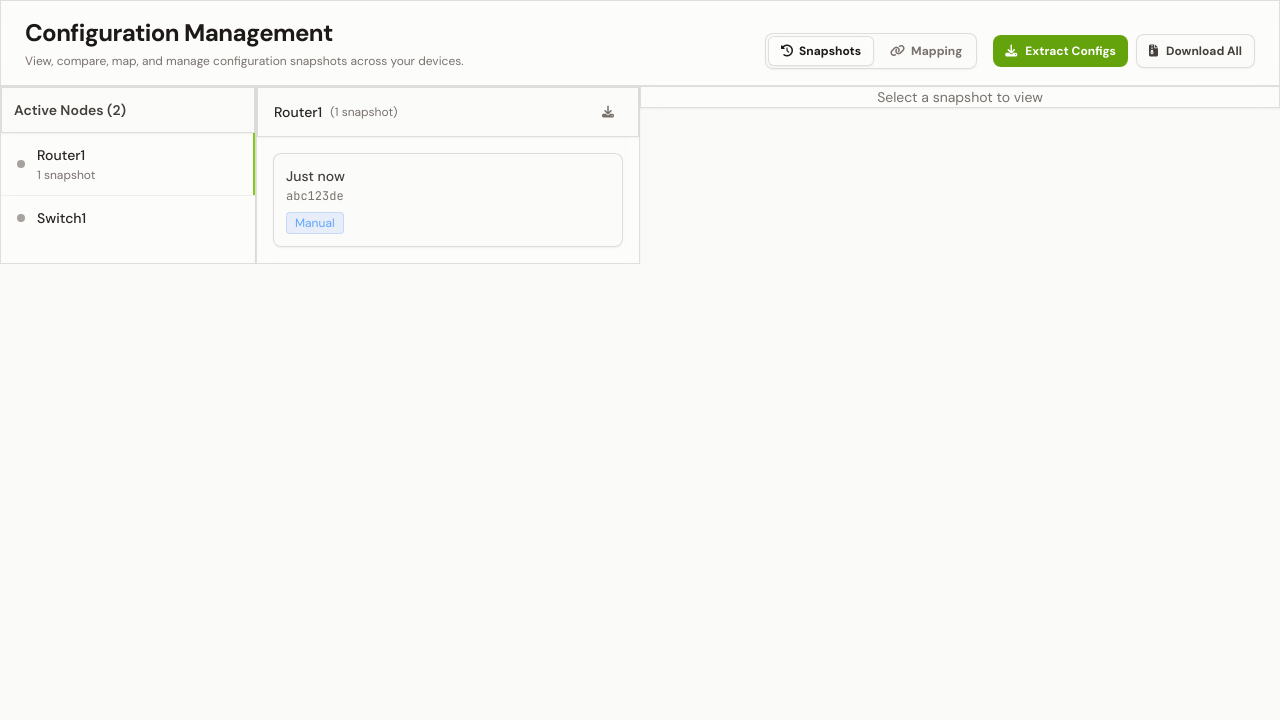
Test: ConfigsView › Snapshot deletion › shows confirmation dialog before deleting
Hover over the element showing "Just now abc123de Manual": (448, 200) [273,153,623,247]
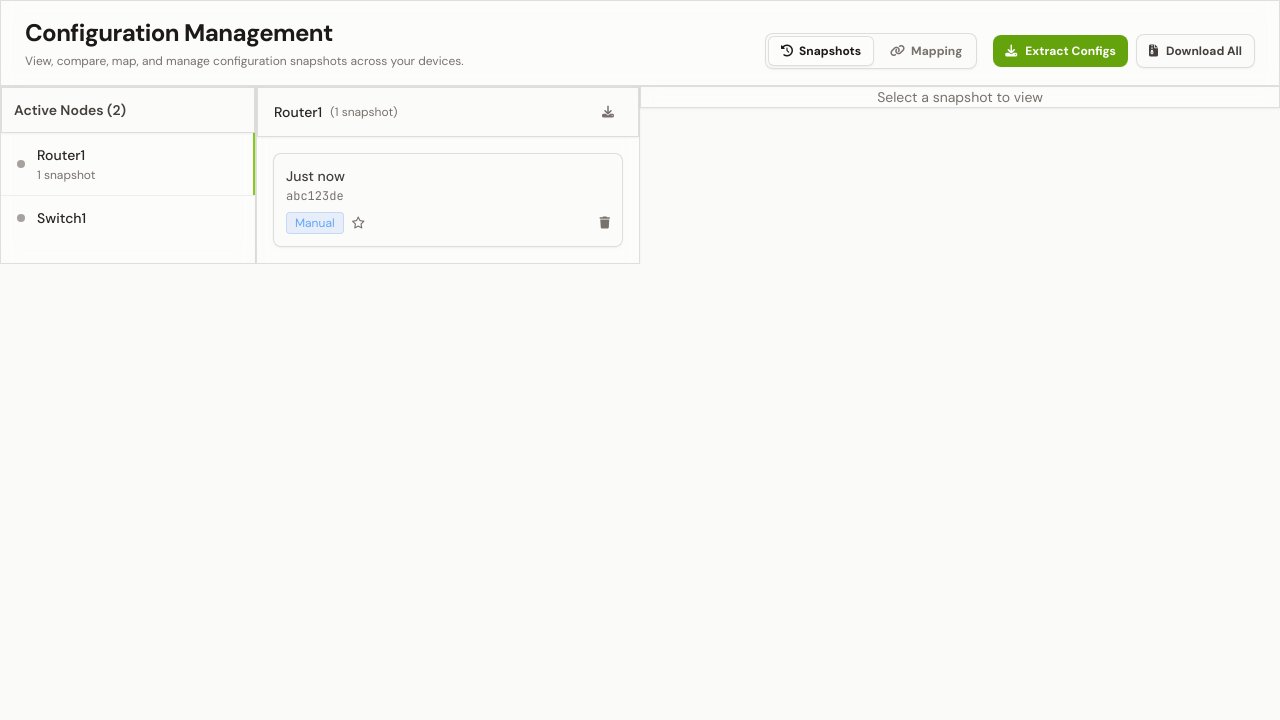
Expected: the icon with class "fa-trash" is shown
Click the button with class "fa-trash": (605, 223) [600,215,610,231]
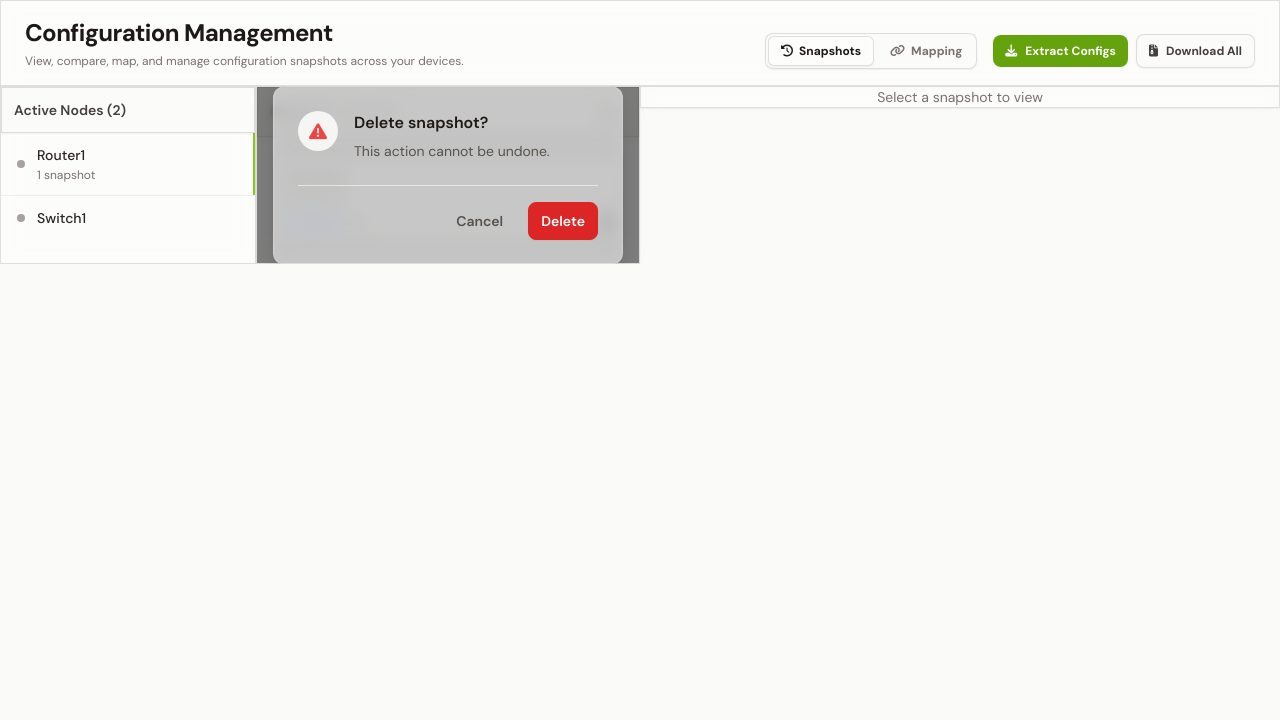
Expected: the heading "Delete snapshot?" is shown, [354,112,488,132]
Expected: the text "This action cannot be undone." is shown, [354,142,550,160]
